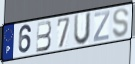6: (18, 24, 32, 55)
7: (57, 16, 71, 49)
B: (36, 20, 53, 54)
S: (111, 7, 130, 39)
U: (73, 11, 93, 46)
Z: (92, 9, 111, 43)
